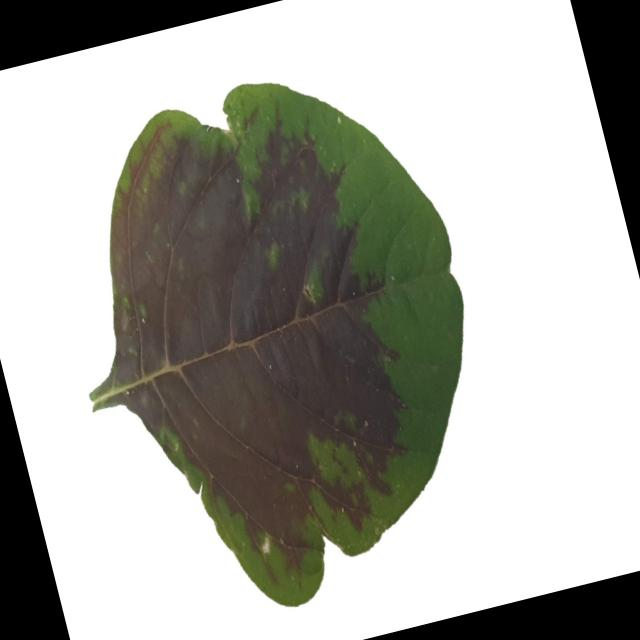Medicinal-Arive Dantu: (25, 42, 526, 640)
